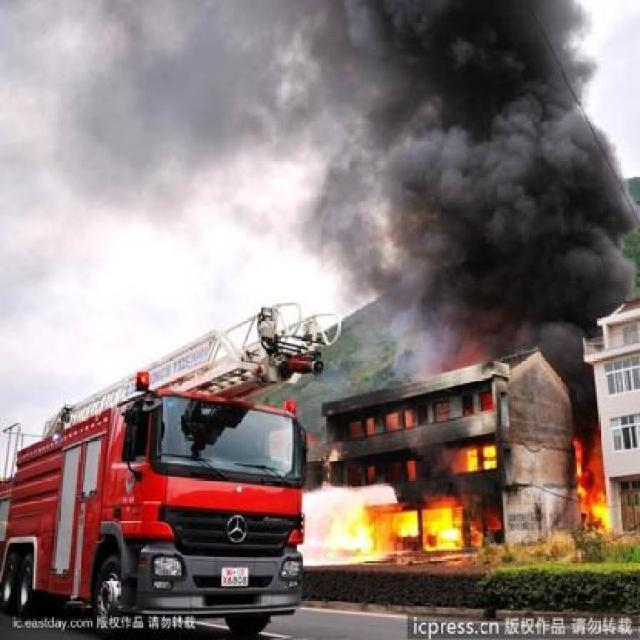Fire: (318, 487, 470, 565), (578, 435, 612, 543), (477, 495, 510, 561), (448, 443, 496, 474), (364, 410, 382, 442), (481, 387, 497, 410), (402, 456, 417, 476), (437, 402, 450, 424), (348, 418, 358, 441), (388, 406, 398, 426), (408, 406, 416, 428)
Smoke: (371, 0, 638, 383)
